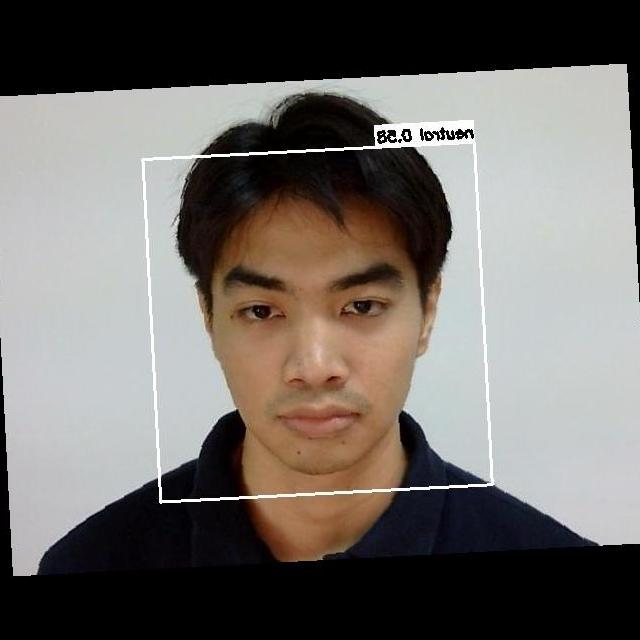Natural: (195, 217, 425, 450)
